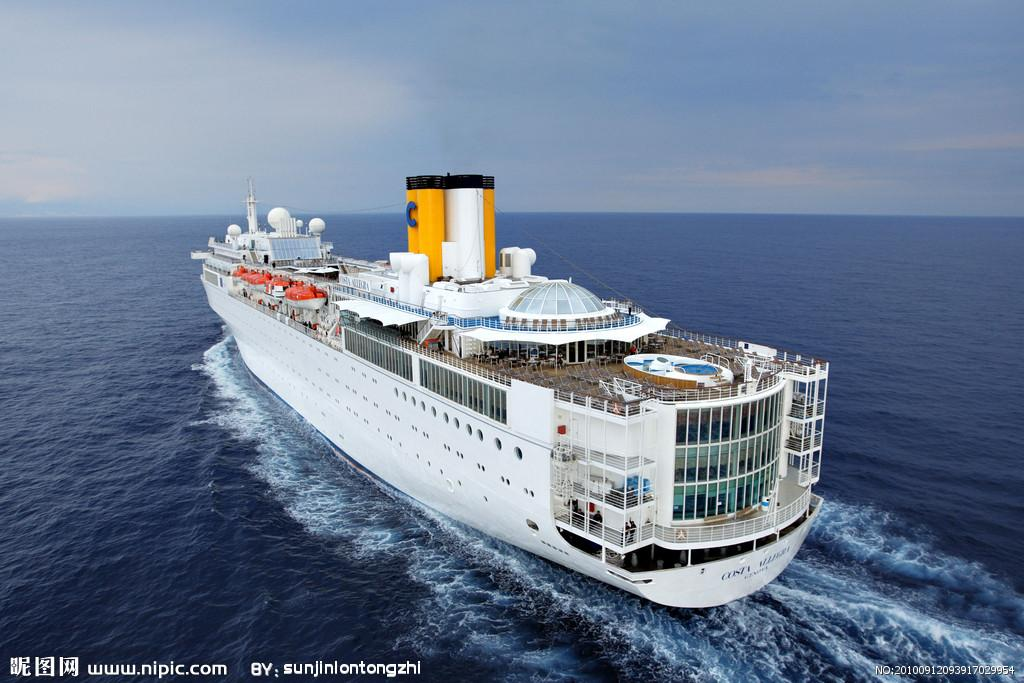youlun: (188, 166, 831, 609)
